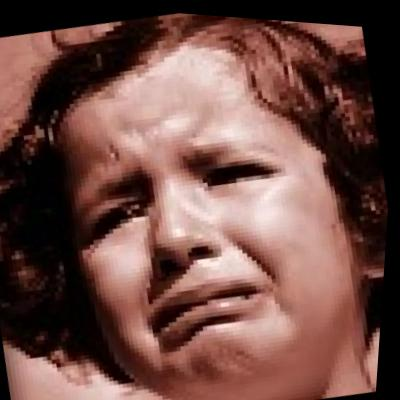sad: (42, 23, 395, 400)
